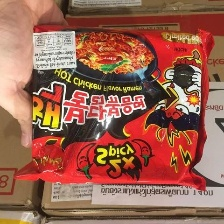snack: (6, 18, 220, 197)
